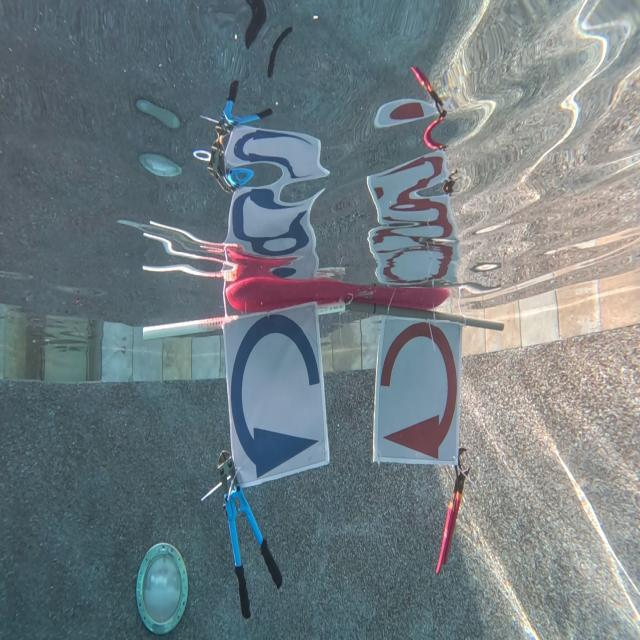blue_side: (221, 303, 330, 486)
red_side: (375, 313, 461, 469)
